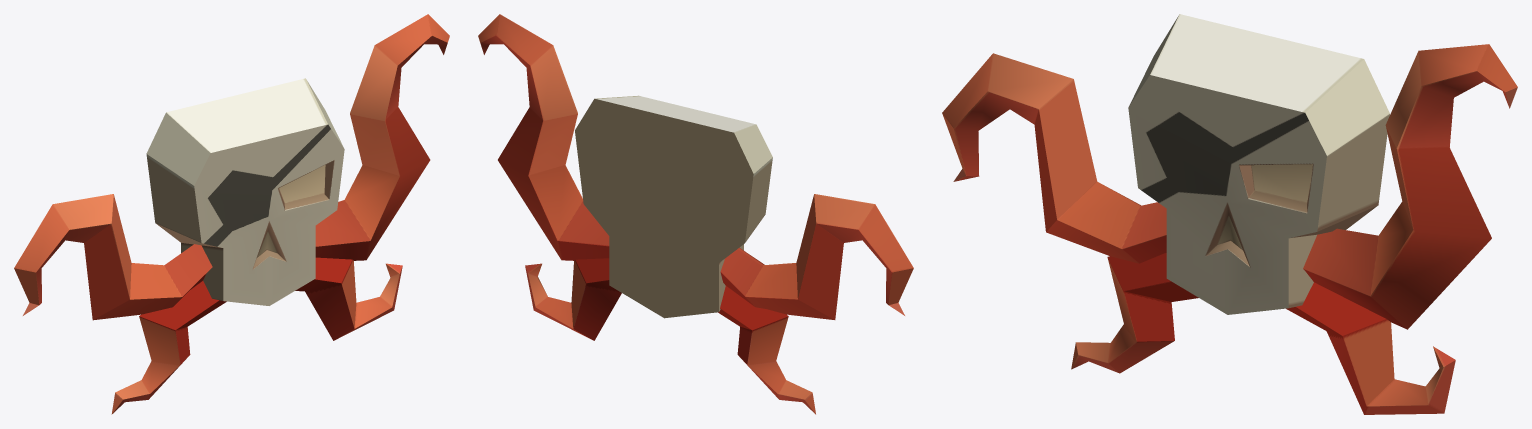
Rendered from Pirate_Ship_We_BowDecorate_001.FBX.
The picture shows the model from 3 angles, left to right: view 1: azimuth 30°, elevation 25°; view 2: azimuth 150°, elevation 25°; view 3: azimuth 330°, elevation 25°; orthographic projection. The views are drawn at different scales.
Visible parts, largest first — view 1: Pirate_Ship_We_BowDecorate_001; view 2: Pirate_Ship_We_BowDecorate_001; view 3: Pirate_Ship_We_BowDecorate_001.
Boxes of the visible parts, x1=… form: Pirate_Ship_We_BowDecorate_001: x1=14, y1=14, x2=449, y2=414; Pirate_Ship_We_BowDecorate_001: x1=478, y1=14, x2=913, y2=414; Pirate_Ship_We_BowDecorate_001: x1=942, y1=14, x2=1517, y2=414.
Bounding box in the file's own units: 12.42 × 8.81 × 1.76.
